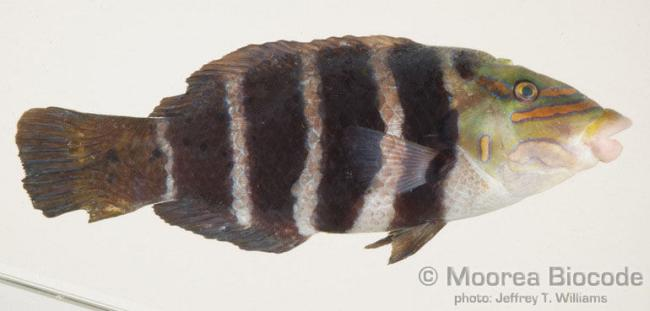fish: (15, 35, 634, 268)
